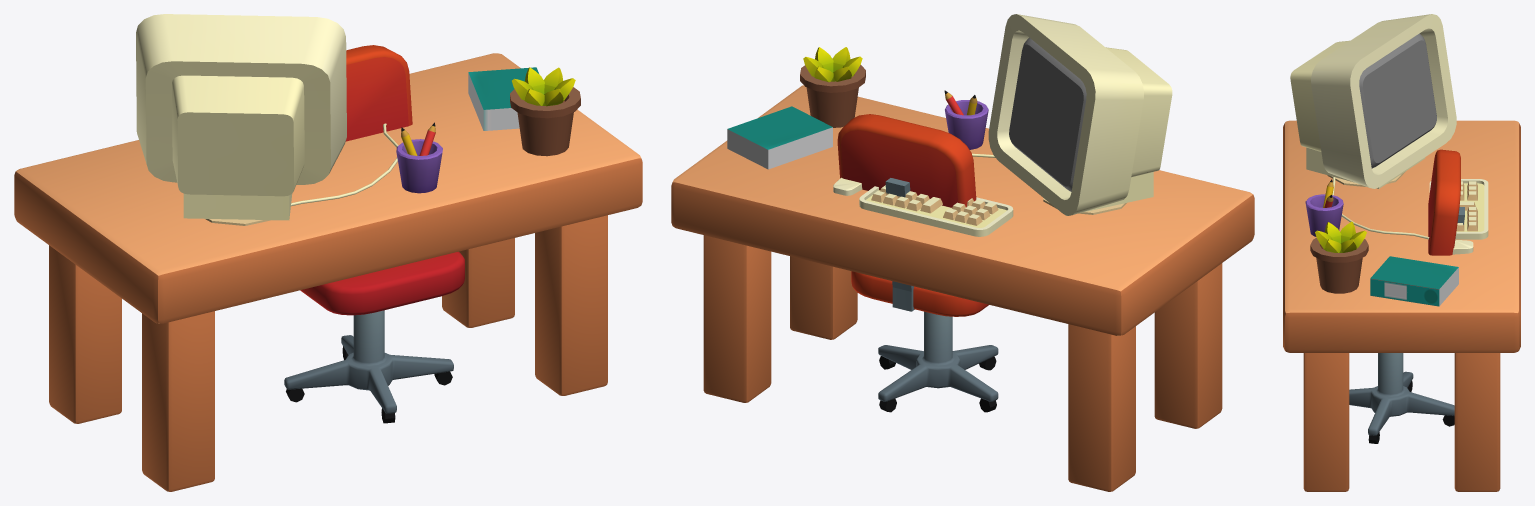
The model's file is old_desk.fbx.
The picture shows the model from 3 angles, left to right: view 1: azimuth 30°, elevation 25°; view 2: azimuth 150°, elevation 25°; view 3: azimuth 270°, elevation 25°; orthographic projection. The views are drawn at different scales.
Parts seen in each view (by area): view 1: old_desk, chair; view 2: old_desk, chair; view 3: old_desk, chair.
Part boxes in pixels (<box>): old_desk: <box>14,14,642,491</box>; chair: <box>284,45,464,423</box>; old_desk: <box>671,14,1254,491</box>; chair: <box>837,114,998,412</box>; old_desk: <box>1283,14,1520,491</box>; chair: <box>1349,149,1464,443</box>.
Bounding box in the file's own units: 111 × 88.37 × 57.5.
Materials: 1 (1 with a texture image).
